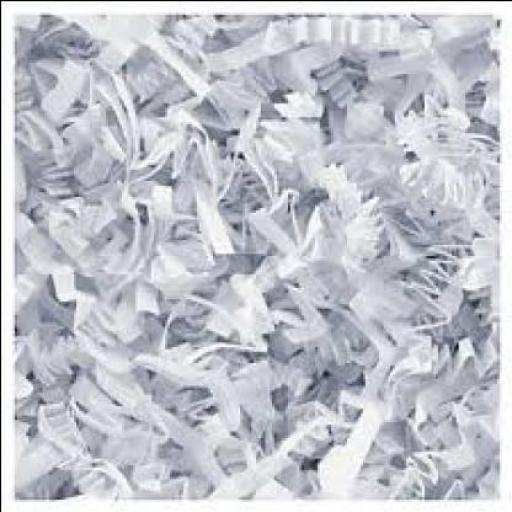paper: (11, 9, 494, 496)
